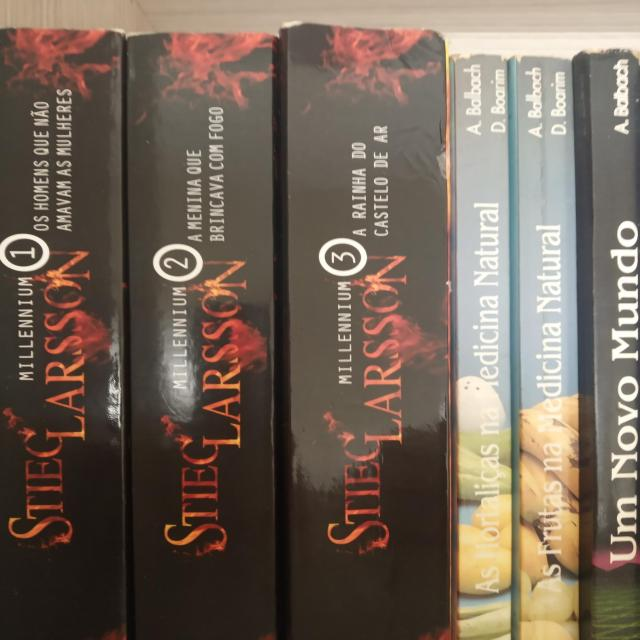book: (288, 33, 438, 637), (129, 35, 273, 635), (0, 31, 119, 636), (450, 54, 508, 636), (582, 57, 640, 638), (520, 59, 576, 640)
